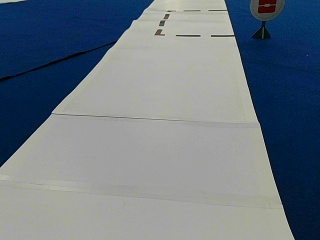company: (249, 0, 284, 20)
